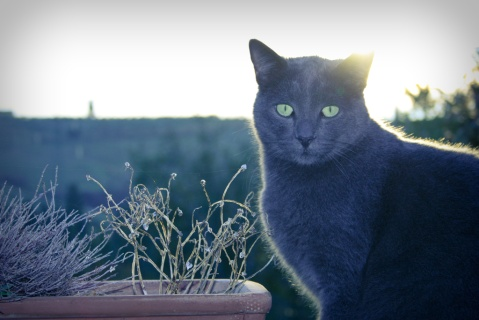Cat: (247, 38, 479, 319)
